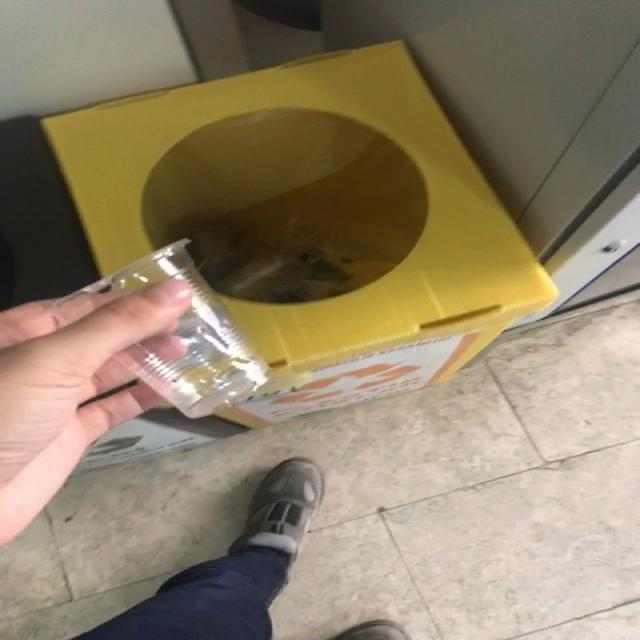plastic: (60, 239, 269, 418)
